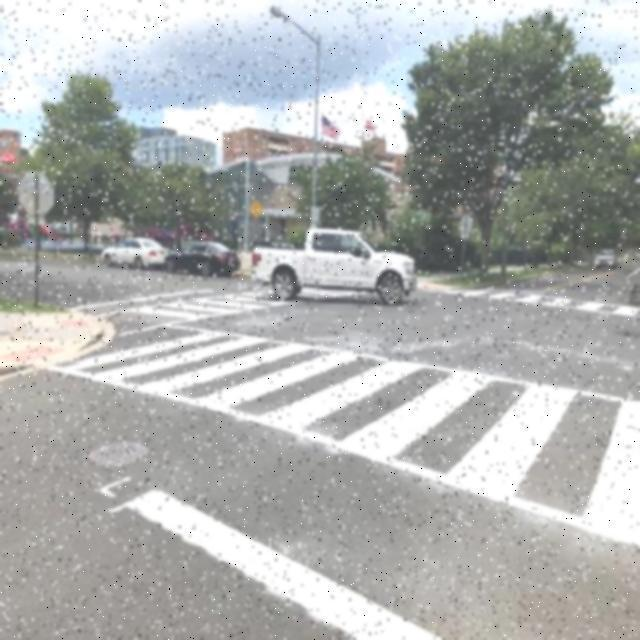Pedestrian crosswalk: (65, 325, 638, 565), (103, 285, 317, 334), (466, 274, 640, 332)
